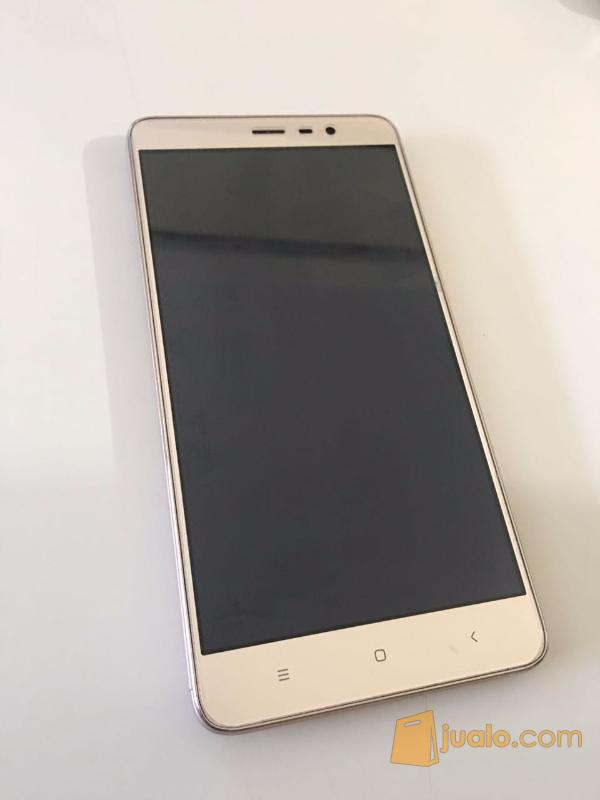Handphone: (122, 105, 554, 786)
